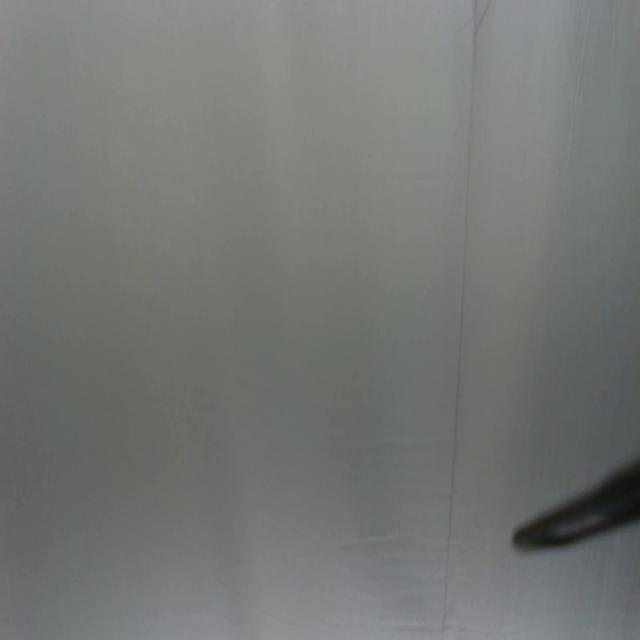crease: (439, 0, 481, 640)
